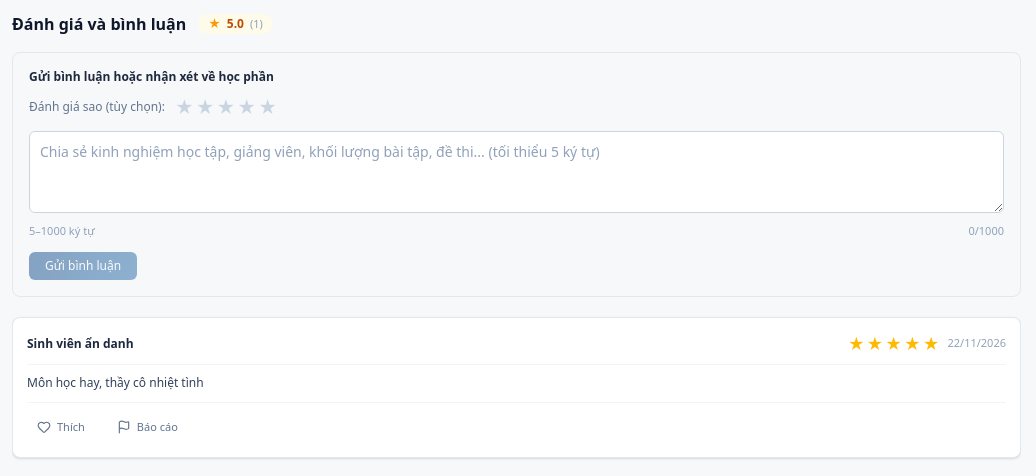
Test: Brief A3: Kiểm duyệt nội dung & Đánh giá bình luận học phần › 1. Khối Đánh giá & bình luận trên trang chi tiết môn học (ModuleReviews) › lỗi 422 hiển thị thông báo inline trong form
The width and height of the screenshot is (1036, 476).
Replace the text in the text box named "Nội dung bình luận" with "Bình luận có từ cấm không phù hợp" at (516, 172), box left=29, top=131, right=1004, bottom=213
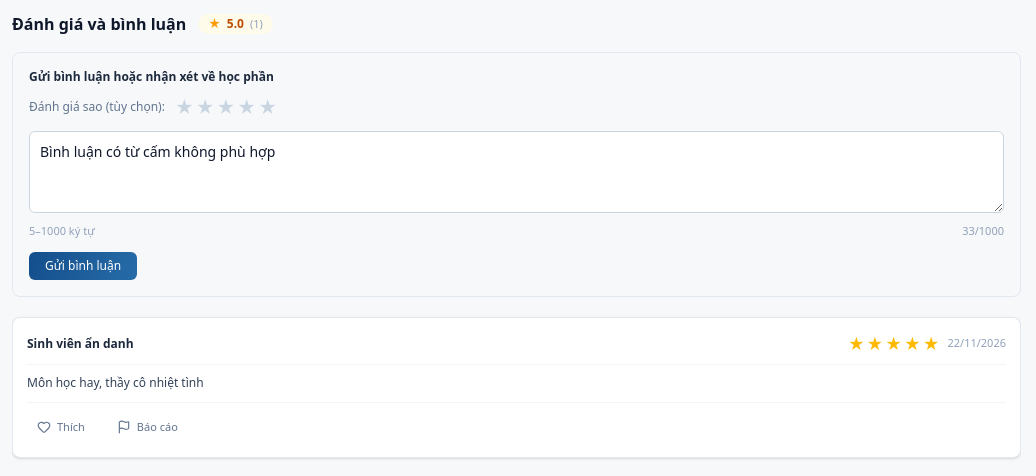
Click the button "Gửi bình luận" at (83, 266), box left=29, top=252, right=137, bottom=280
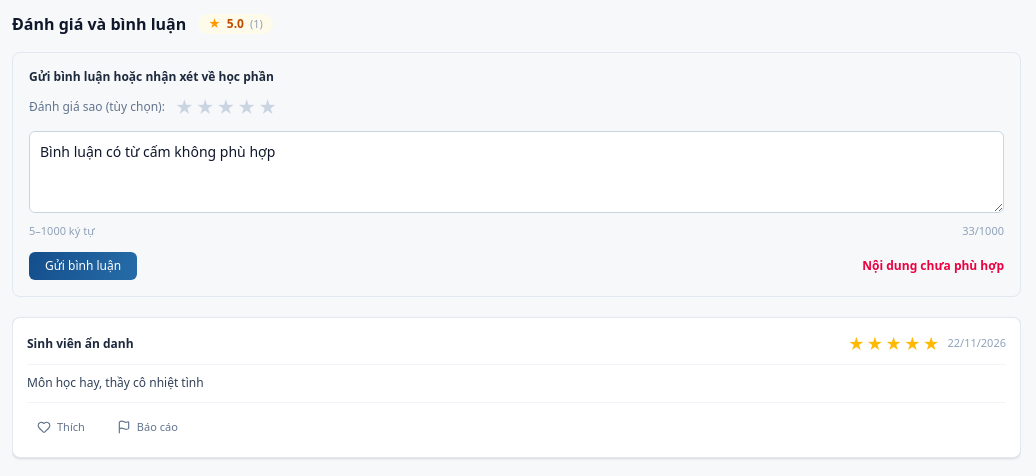
Now the text "Nội dung chưa phù hợp" is shown, box left=862, top=258, right=1004, bottom=274
